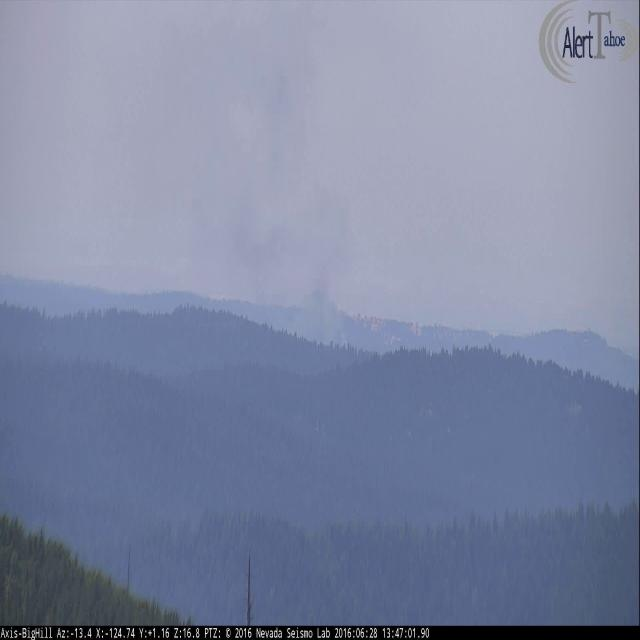smoke: (186, 5, 355, 347)
